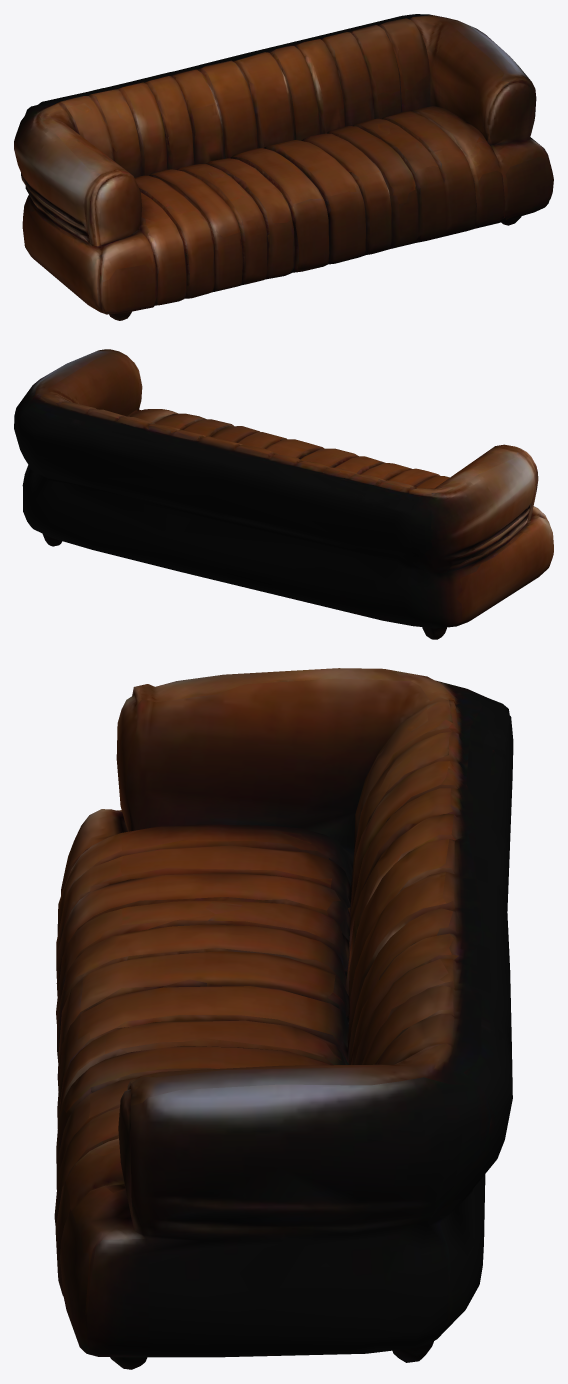
3 views of the same model, one above another, from view 1: azimuth 30°, elevation 25°; view 2: azimuth 150°, elevation 25°; view 3: azimuth 270°, elevation 25° (orthographic). The views are drawn at different scales.
Parts seen in each view (by area): view 1: geometry_0; view 2: geometry_0; view 3: geometry_0.
Boxes of the visible parts, x1=… form: geometry_0: x1=14, y1=14, x2=553, y2=320; geometry_0: x1=14, y1=349, x2=553, y2=639; geometry_0: x1=54, y1=668, x2=513, y2=1369.
Bounding box in the file's own units: 0.9994 × 0.3155 × 0.4272.
1 material, 1 textured.
